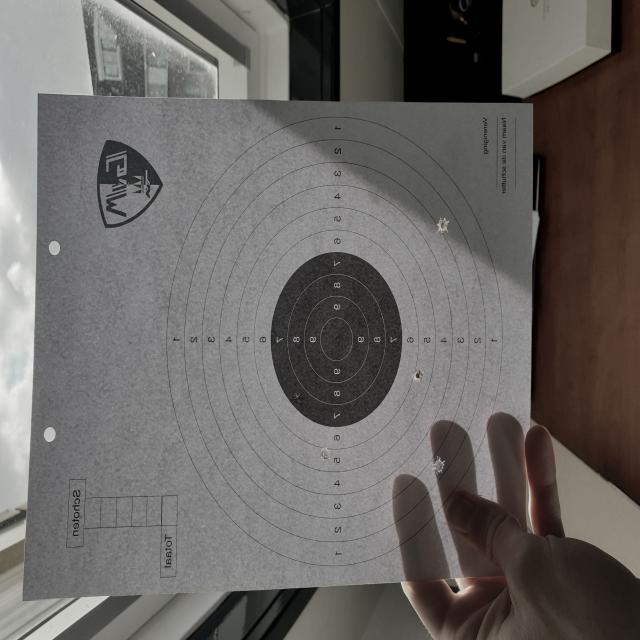2: (433, 456, 445, 474)
3: (435, 216, 449, 235)
6: (412, 369, 424, 383), (320, 446, 330, 462)
7: (292, 391, 304, 406)
Target: (165, 115, 505, 571)
black_contour: (271, 252, 402, 427)
